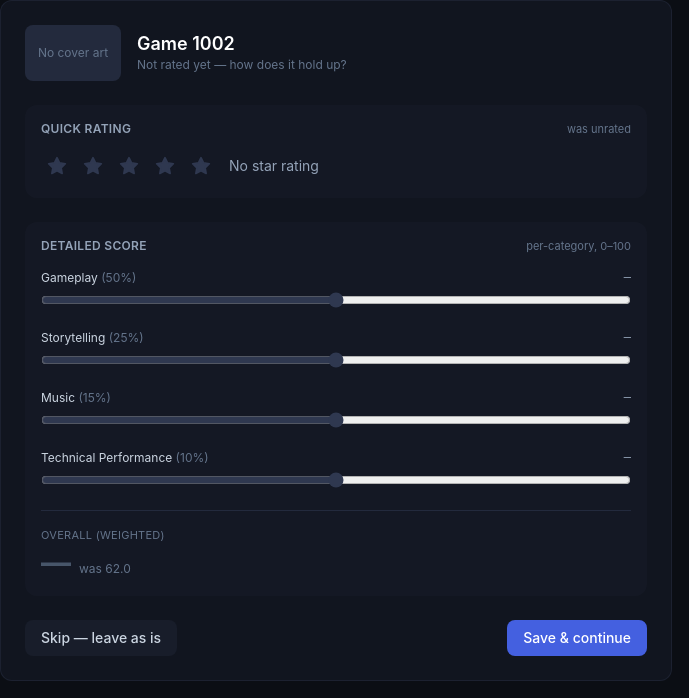
Test: RerateRatingPanel rendering › previews the weighted overall with profile weights and renormalisation
This screenshot has width=689, height=698.
Set the slider below "Gameplay" to "80" at (508, 300), box left=41, top=292, right=631, bottom=308
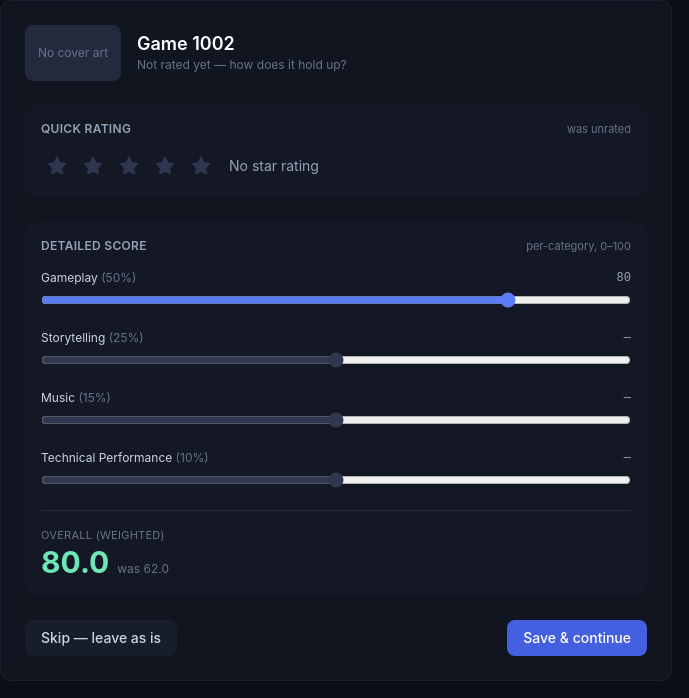
Result: the text "80.0" is shown at left=41, top=544, right=109, bottom=580
Set the slider below "Storytelling" to "60" at (393, 360), box left=41, top=352, right=631, bottom=368
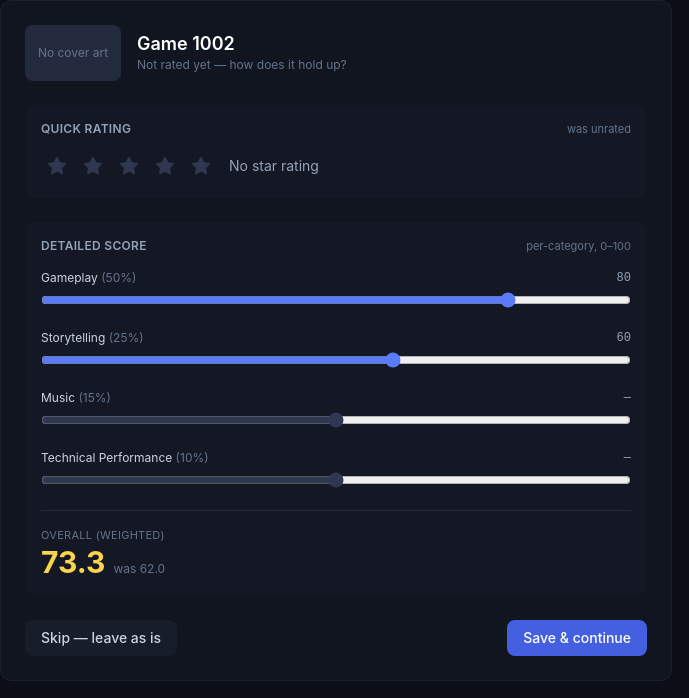
Expected: the text "was 62.0" is shown, left=113, top=560, right=165, bottom=576
Result: the text "73.3" is shown at left=41, top=544, right=105, bottom=580
